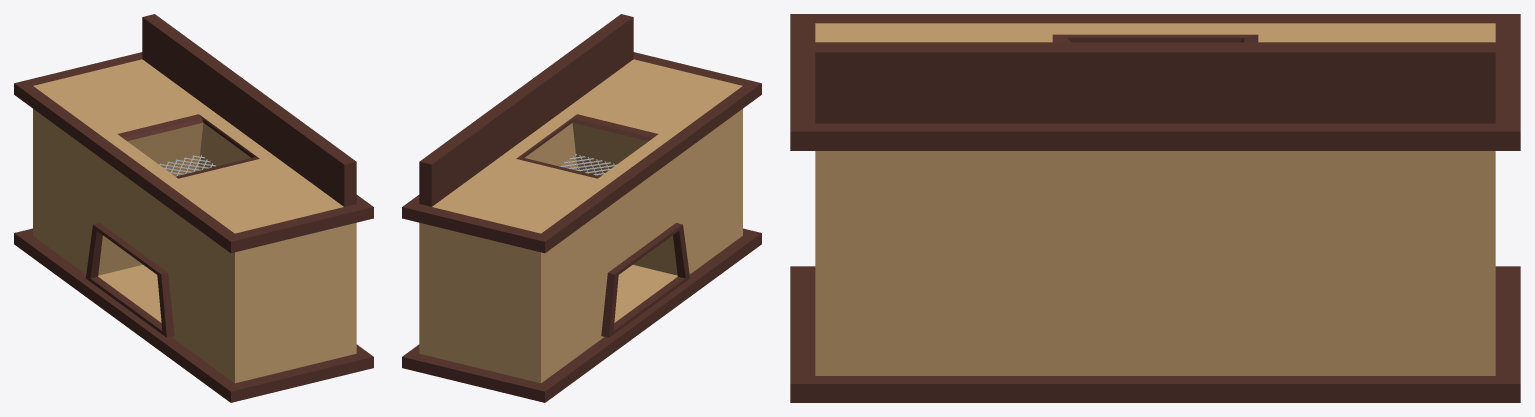
The model's file is Stove Station.glb.
The picture shows the model from 3 angles, left to right: view 1: azimuth 30°, elevation 25°; view 2: azimuth 150°, elevation 25°; view 3: azimuth 270°, elevation 25°; orthographic projection. The views are drawn at different scales.
Visible parts, largest first — view 1: Cube.002; view 2: Cube.002; view 3: Cube.002.
Boxes of the visible parts, bbox=[...] form: Cube.002: bbox=[14, 14, 373, 402]; Cube.002: bbox=[402, 14, 761, 402]; Cube.002: bbox=[790, 14, 1520, 402].
Bounding box in the file's own units: 0.6692 × 0.9091 × 1.76.
